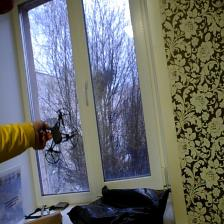drone: (32, 103, 80, 167)
